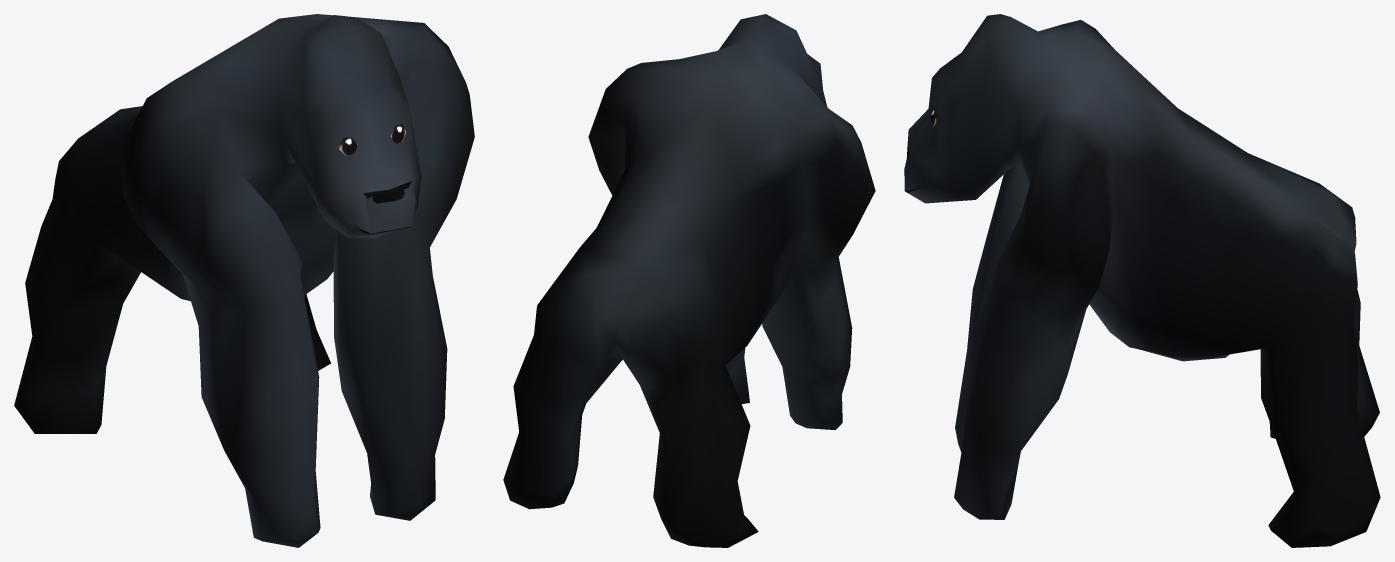
Rendered from Gorilla.glb.
The picture shows the model from 3 angles, left to right: view 1: azimuth 30°, elevation 25°; view 2: azimuth 150°, elevation 25°; view 3: azimuth 270°, elevation 25°; orthographic projection. The views are drawn at different scales.
Parts seen in each view (by area): view 1: Gorilla; view 2: Gorilla; view 3: Gorilla.
Boxes of the visible parts, left/top/right/bottom form: Gorilla: left=14, top=14, right=474, bottom=547; Gorilla: left=503, top=14, right=875, bottom=547; Gorilla: left=904, top=14, right=1380, bottom=547.
Size of what is drawn, in the model's own units: 1.29 by 1.85 by 1.7.
1 material, 1 textured.
